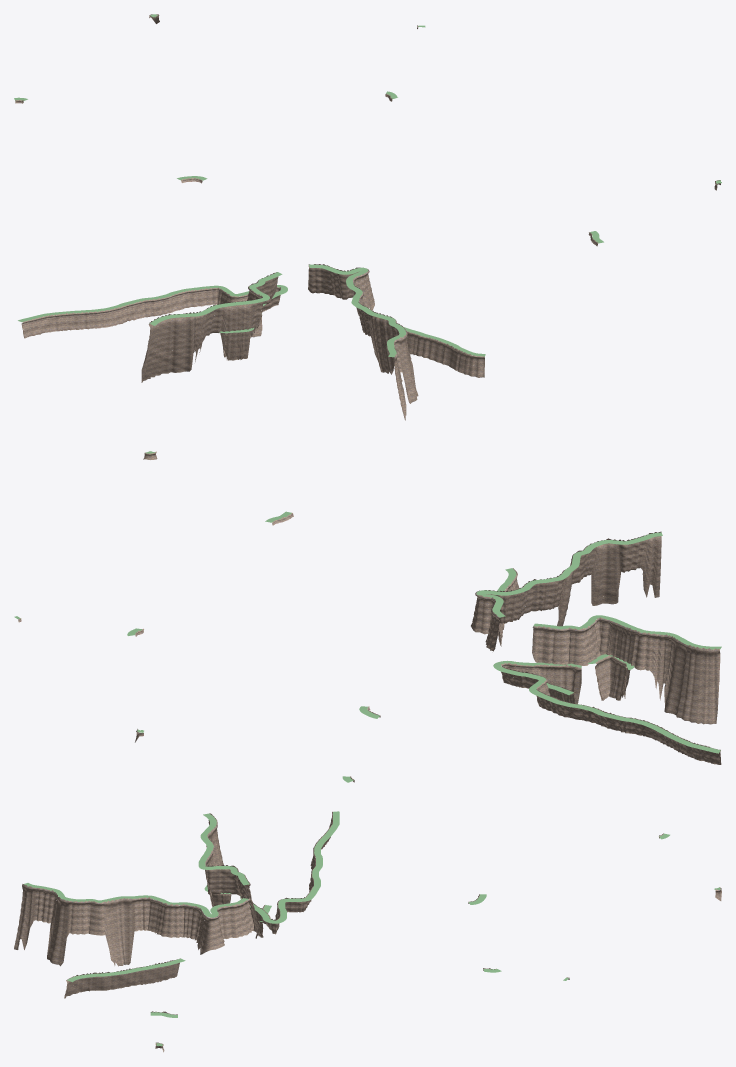
The model's file is CliffWall_plateau_northeast.glb.
3 renders of one model, top to bottom at view 1: azimuth 30°, elevation 25°; view 2: azimuth 150°, elevation 25°; view 3: azimuth 270°, elevation 25°, orthographic. The views are drawn at different scales.
Visible parts, largest first — view 1: CliffWall_plateau_northeast-rock5, CliffWall_plateau_northeast-rock6, CliffWall_plateau_northeast-rock9, CliffWall_plateau_northeast-rock12, CliffWall_plateau_northeast-lip6, CliffWall_plateau_northeast-lip9, CliffWall_plateau_northeast-lip5; view 2: CliffWall_plateau_northeast-rock5, CliffWall_plateau_northeast-rock6, CliffWall_plateau_northeast-rock9, CliffWall_plateau_northeast-lip9, CliffWall_plateau_northeast-lip6, CliffWall_plateau_northeast-rock10, CliffWall_plateau_northeast-lip5; view 3: CliffWall_plateau_northeast-rock6, CliffWall_plateau_northeast-rock12, CliffWall_plateau_northeast-rock5, CliffWall_plateau_northeast-lip9, CliffWall_plateau_northeast-rock9, CliffWall_plateau_northeast-lip6, CliffWall_plateau_northeast-lip5, CliffWall_plateau_northeast-lip12.
Part boxes in pixels (box(x1,y1,x2,y2)): CliffWall_plateau_northeast-rock5: box(141, 272, 278, 382); CliffWall_plateau_northeast-rock6: box(308, 264, 418, 420); CliffWall_plateau_northeast-rock9: box(21, 286, 280, 338); CliffWall_plateau_northeast-rock12: box(406, 331, 484, 377); CliffWall_plateau_northeast-lip6: box(309, 264, 406, 357); CliffWall_plateau_northeast-lip9: box(18, 285, 287, 321); CliffWall_plateau_northeast-lip5: box(149, 272, 282, 325); CliffWall_plateau_northeast-rock5: box(532, 617, 720, 724); CliffWall_plateau_northeast-rock6: box(471, 531, 661, 651); CliffWall_plateau_northeast-rock9: box(501, 663, 721, 764); CliffWall_plateau_northeast-lip9: box(493, 660, 720, 753); CliffWall_plateau_northeast-lip6: box(476, 532, 662, 617); CliffWall_plateau_northeast-rock10: box(595, 655, 627, 700); CliffWall_plateau_northeast-lip5: box(533, 615, 721, 649); CliffWall_plateau_northeast-rock6: box(14, 884, 253, 966); CliffWall_plateau_northeast-rock12: box(64, 958, 180, 998); CliffWall_plateau_northeast-rock5: box(205, 813, 254, 911); CliffWall_plateau_northeast-lip9: box(240, 811, 339, 923); CliffWall_plateau_northeast-rock9: box(250, 811, 332, 937); CliffWall_plateau_northeast-lip6: box(24, 883, 248, 917); CliffWall_plateau_northeast-lip5: box(198, 813, 249, 885); CliffWall_plateau_northeast-lip12: box(67, 958, 185, 982).
Bounding box in the file's own units: 3700 × 675 × 3798.
Materials: 4 (1 with a texture image).
